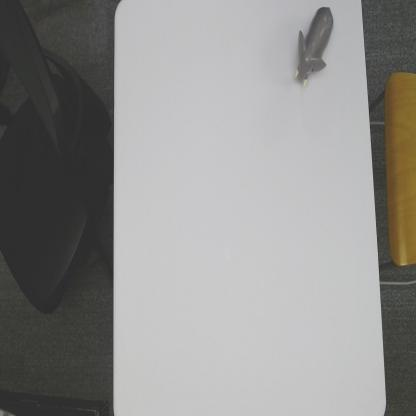Elephant: (293, 5, 334, 86)
